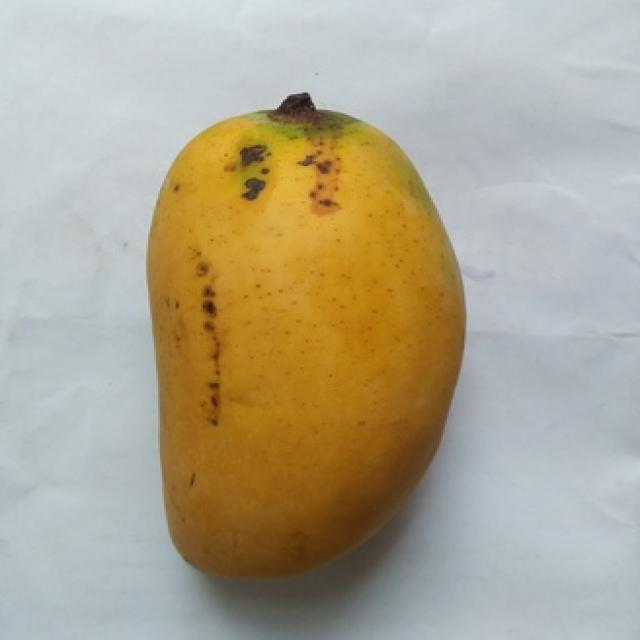Mango: (148, 104, 464, 573)
